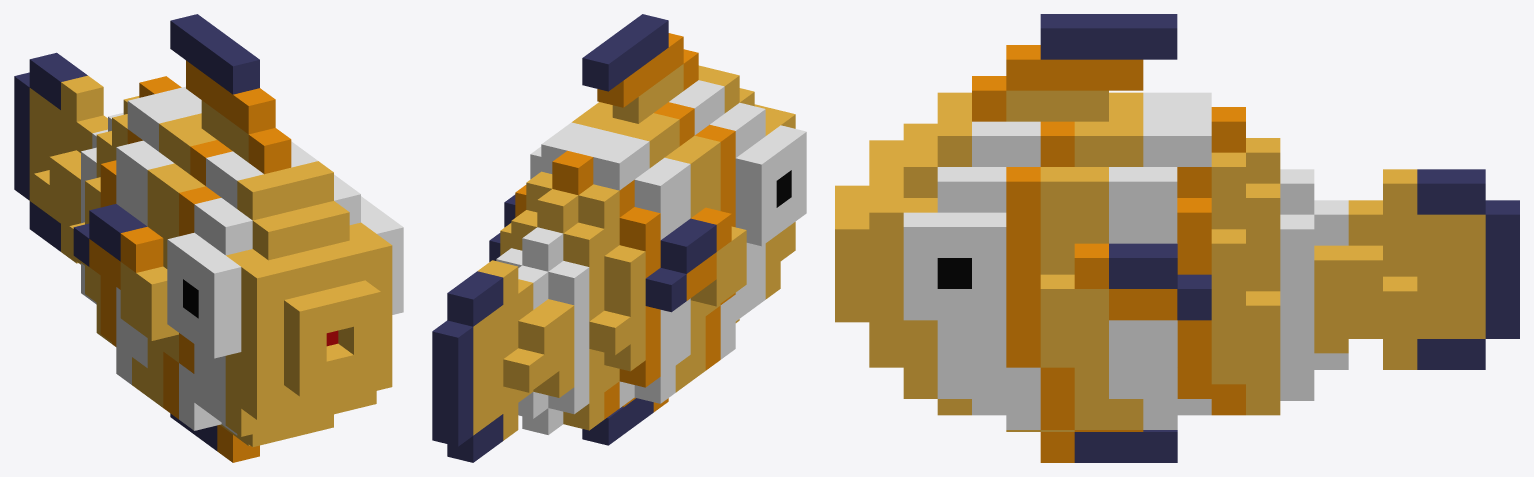
The model's file is PezPayaso.fbx.
The picture shows the model from 3 angles, left to right: view 1: azimuth 30°, elevation 25°; view 2: azimuth 150°, elevation 25°; view 3: azimuth 270°, elevation 25°; orthographic projection. The views are drawn at different scales.
Visible parts, largest first — view 1: pezpayasitoplinplin_7x14x20; view 2: pezpayasitoplinplin_7x14x20; view 3: pezpayasitoplinplin_7x14x20.
Boxes of the visible parts, box(x1,y1,x2,y2) form: pezpayasitoplinplin_7x14x20: box(14, 14, 403, 462); pezpayasitoplinplin_7x14x20: box(432, 14, 806, 462); pezpayasitoplinplin_7x14x20: box(835, 14, 1519, 462).
Size of the model in its own units: 368 by 737 by 1053.
